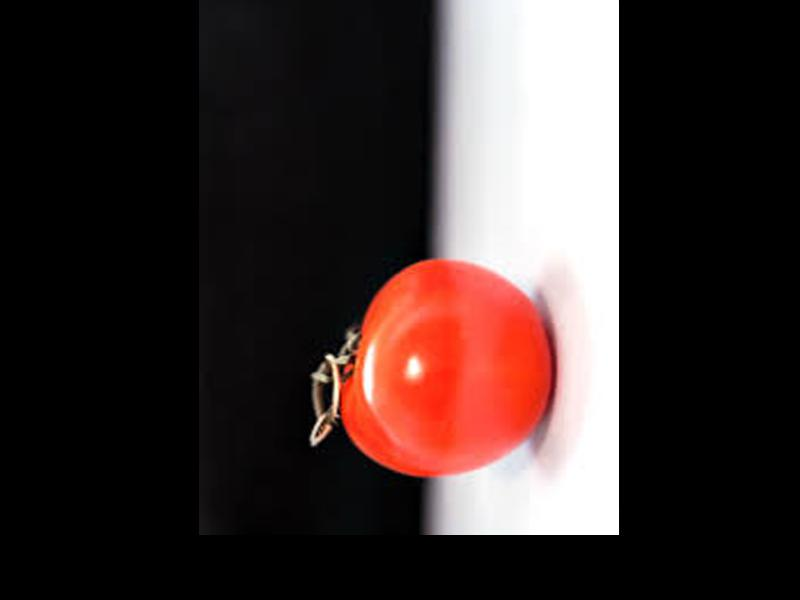Tomato: (339, 257, 552, 477)
